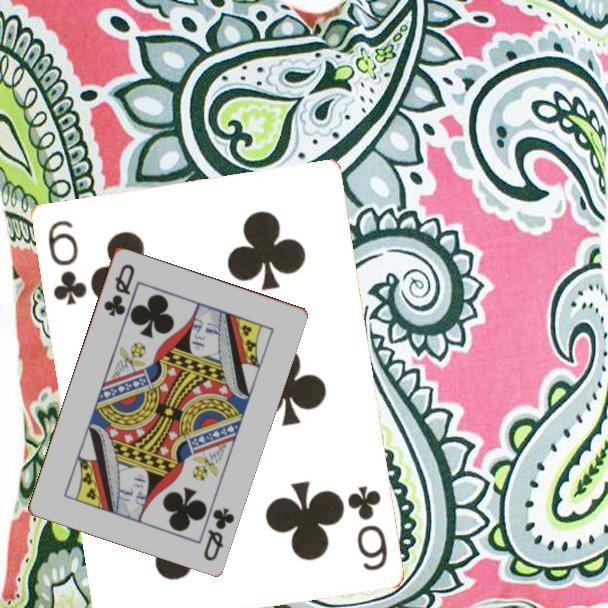c06: (344, 482, 390, 574), (44, 216, 89, 308)
c12: (200, 503, 237, 563), (100, 260, 137, 319)
